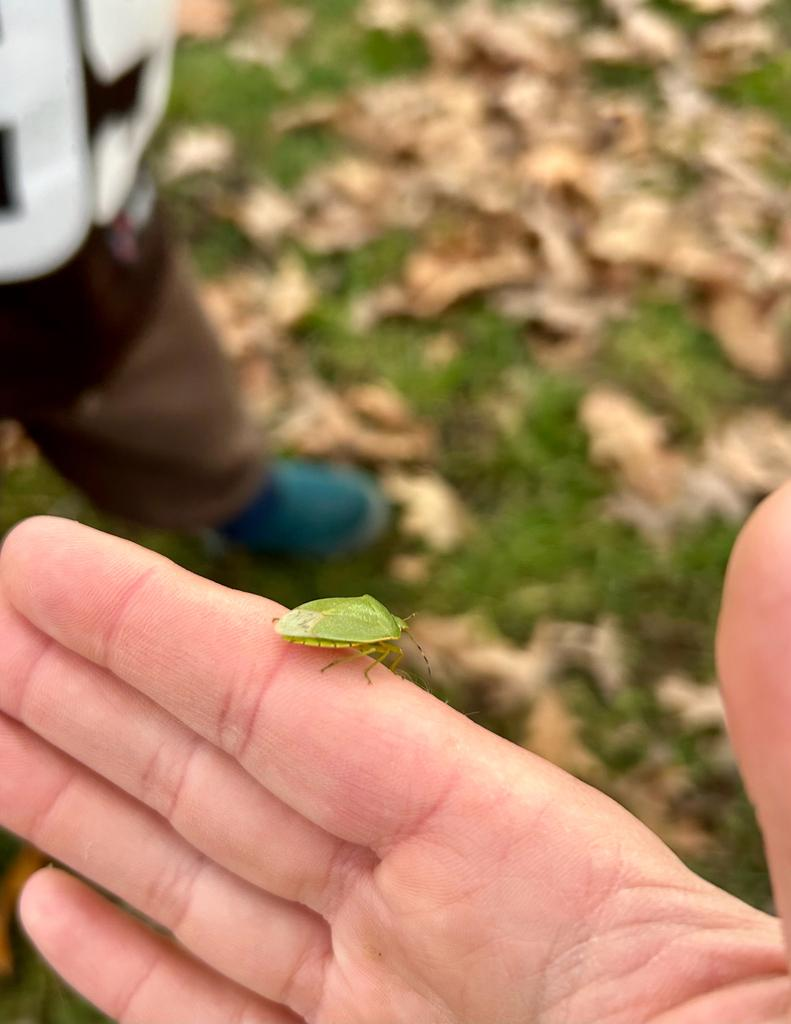stink_bugs: (234, 554, 472, 721)
